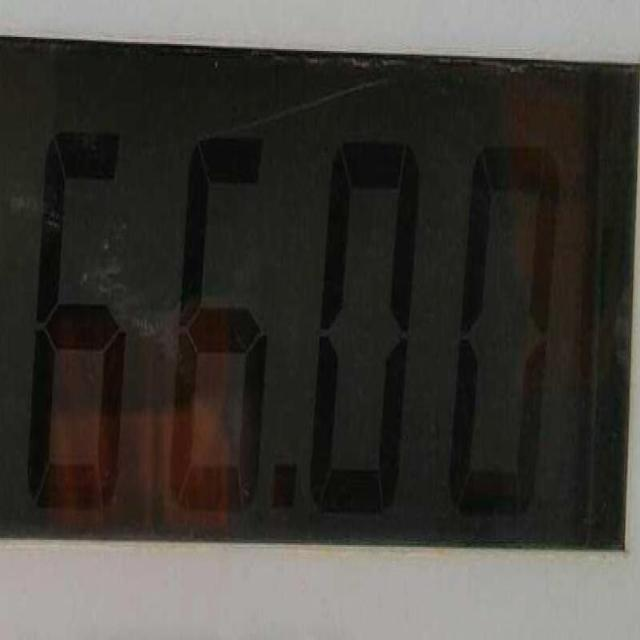.: (270, 458, 298, 516)
0: (308, 136, 423, 516), (451, 142, 563, 521)
6: (164, 119, 270, 536), (28, 129, 124, 513)
